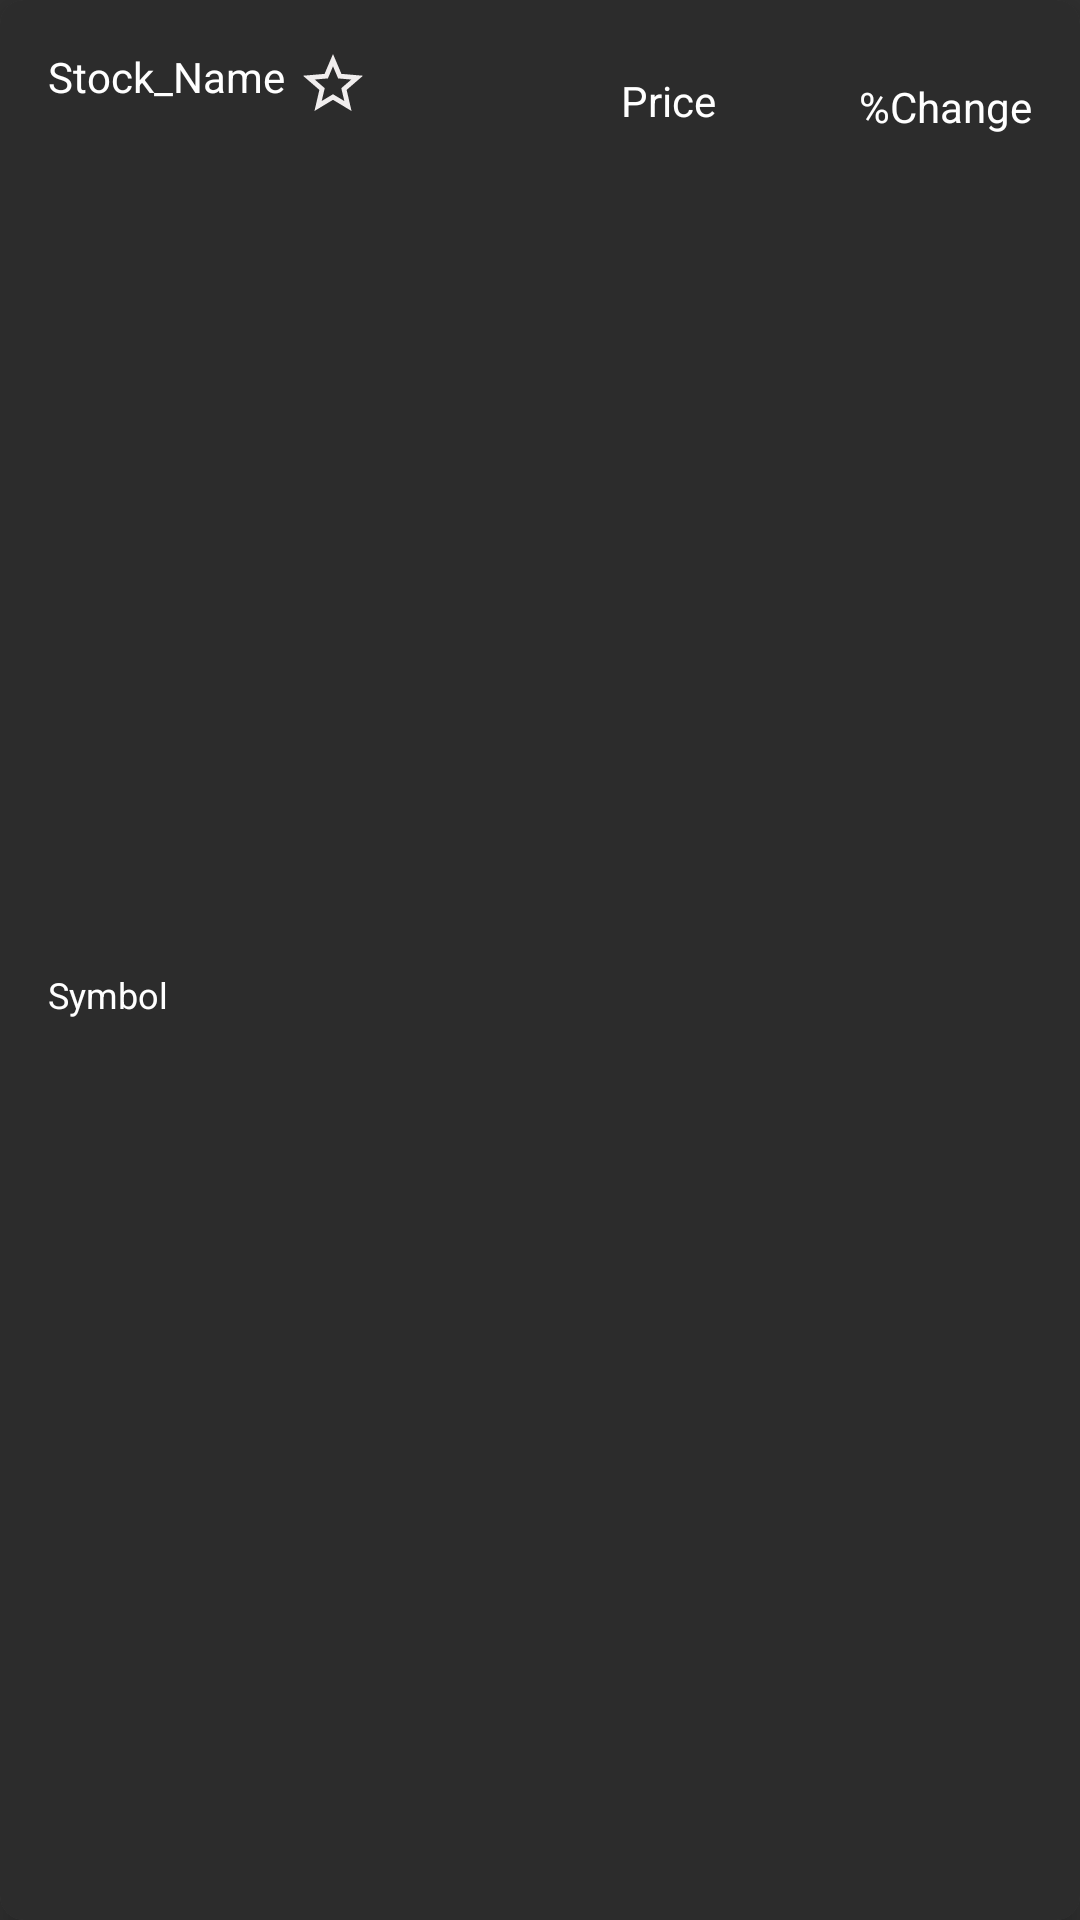

Where to tap for icons on this 1080×1920 app screen, as point (x, y):
star border: point (333, 82)
